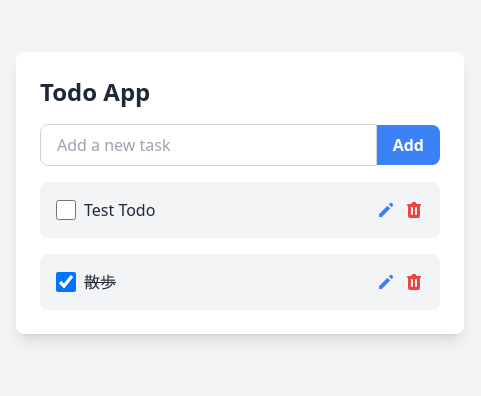
Scenario: TodoApp › Todoアイテムを削除する
Type "削除するタスク" into the field with placeholder "Add a new task" at coordinates (208, 145), box left=40, top=124, right=377, bottom=166
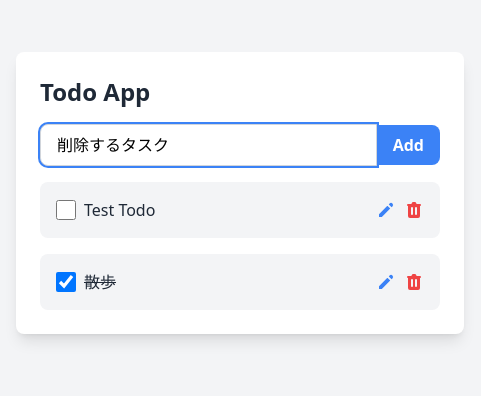
Click the button "Add" at coordinates (408, 145), box left=377, top=125, right=440, bottom=165
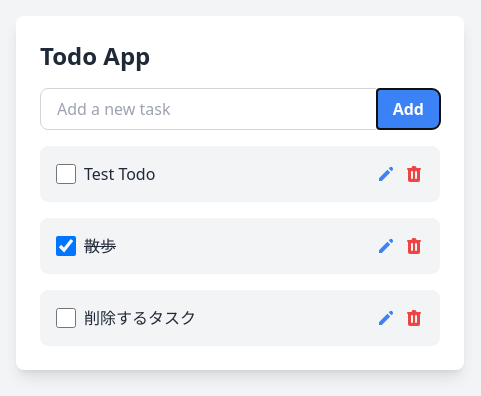
Now the text "削除するタスク" is shown, box left=84, top=306, right=196, bottom=330
Click the button named "削除" in the row of "削除するタスク" at coordinates (414, 318), box left=404, top=308, right=424, bottom=328
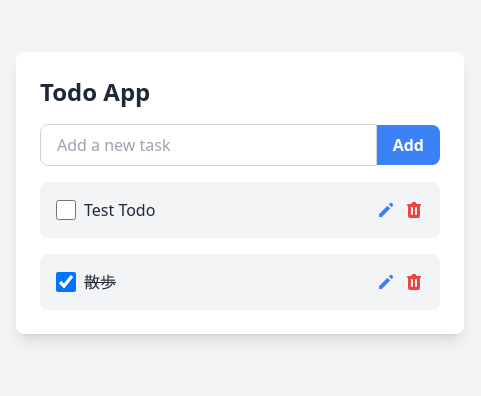
Now the text "削除するタスク" is gone
